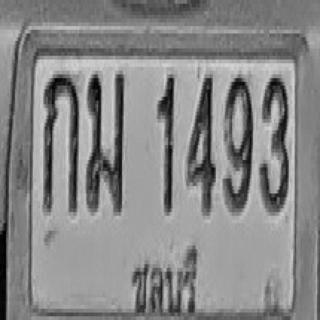A01: (43, 71, 79, 212)
A33: (86, 71, 124, 212)
N01: (157, 72, 175, 214)
N03: (259, 74, 289, 212)
N04: (186, 72, 216, 214)
N09: (224, 74, 252, 212)
P13: (128, 228, 204, 320)
